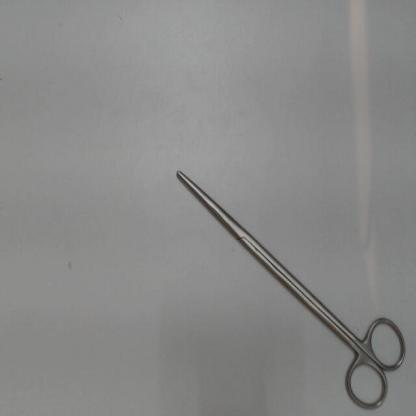9 Metzenbaum Scissors: (175, 166, 414, 414)
